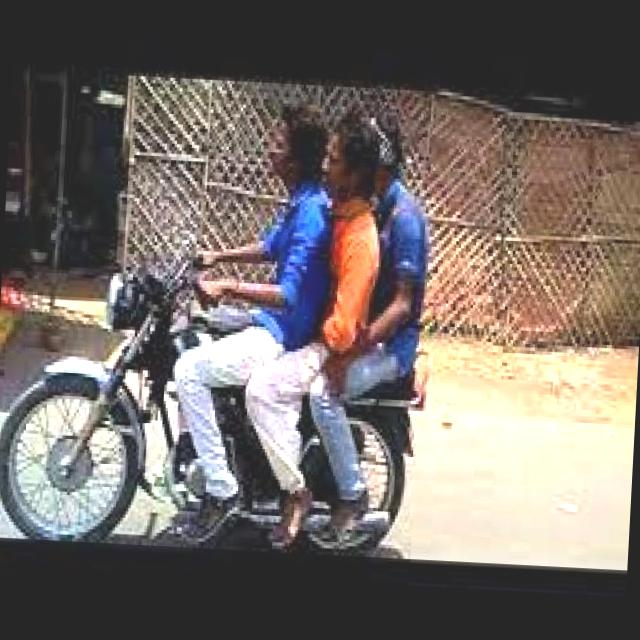motorcycle: (0, 249, 444, 558)
person: (158, 96, 335, 414), (287, 92, 444, 440), (258, 106, 380, 403)
rider_region: (0, 80, 451, 557)
